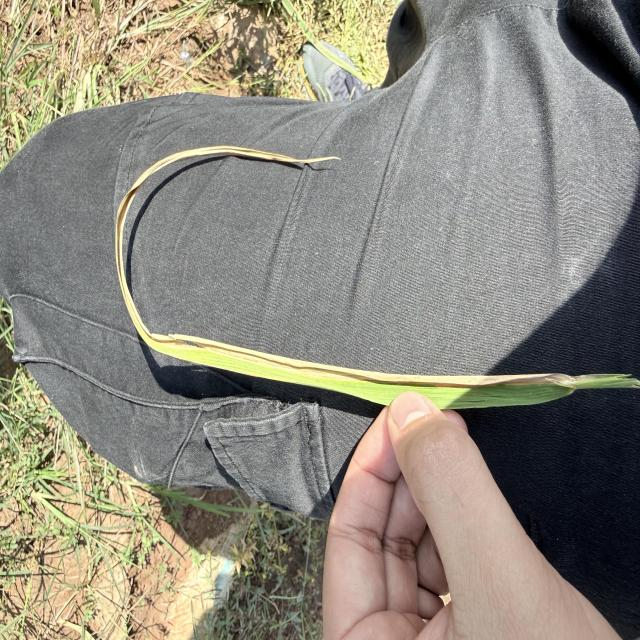Chay bia la: (115, 146, 591, 387)
